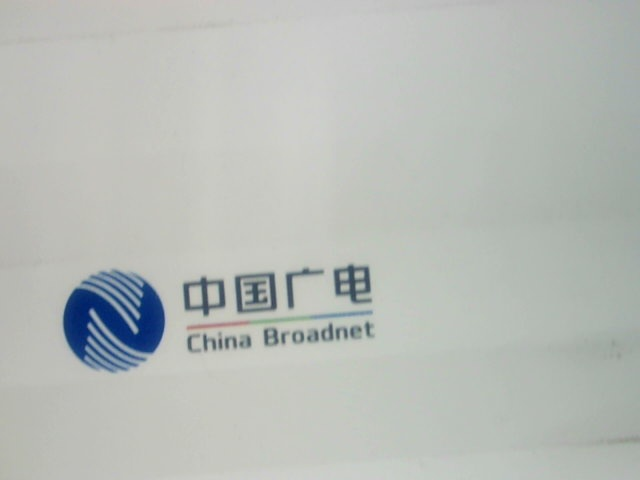AW_ChinaBroadNet: (57, 262, 388, 384)
